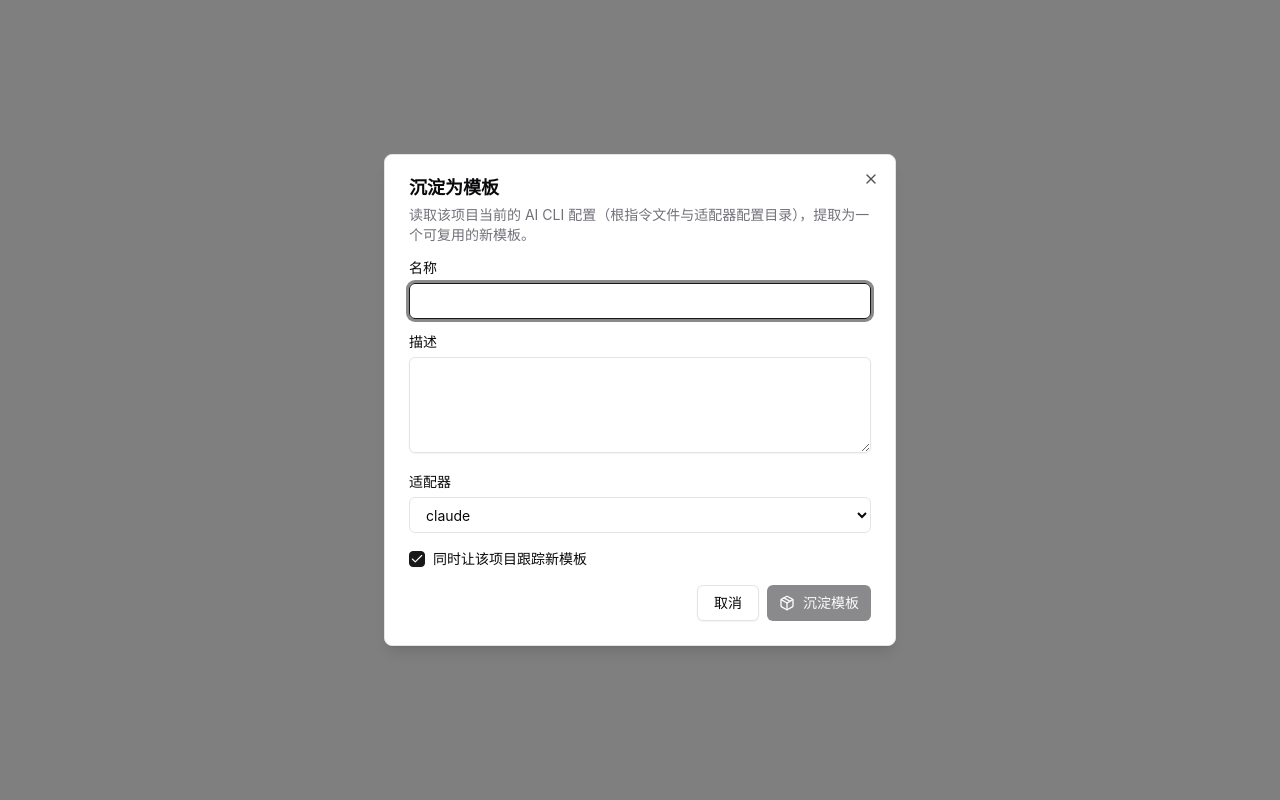
Test: ExtractTemplateDialog › shows the gateway error message when extraction fails
In the field labelled "名称": (640, 301) [409,283,871,319], type "My Template"
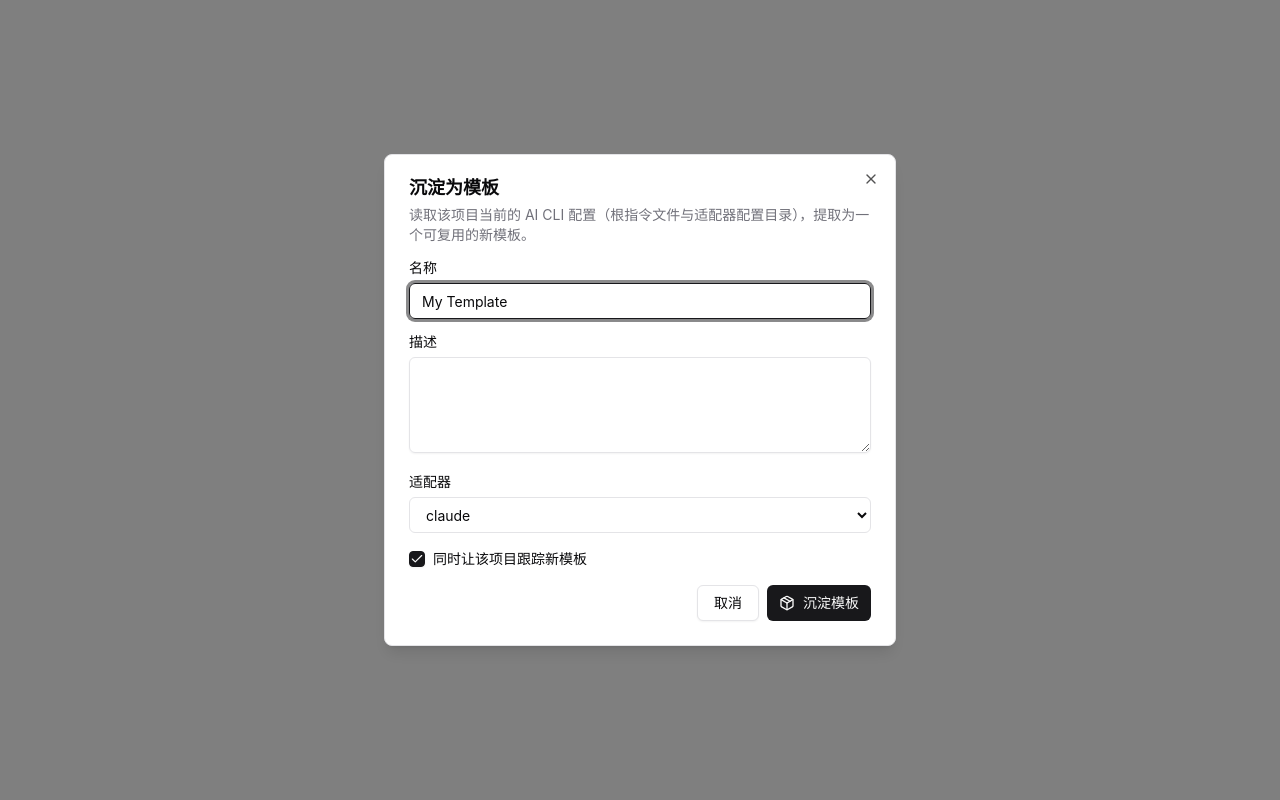
Click the button "沉淀模板": (819, 603) [767,585,871,621]
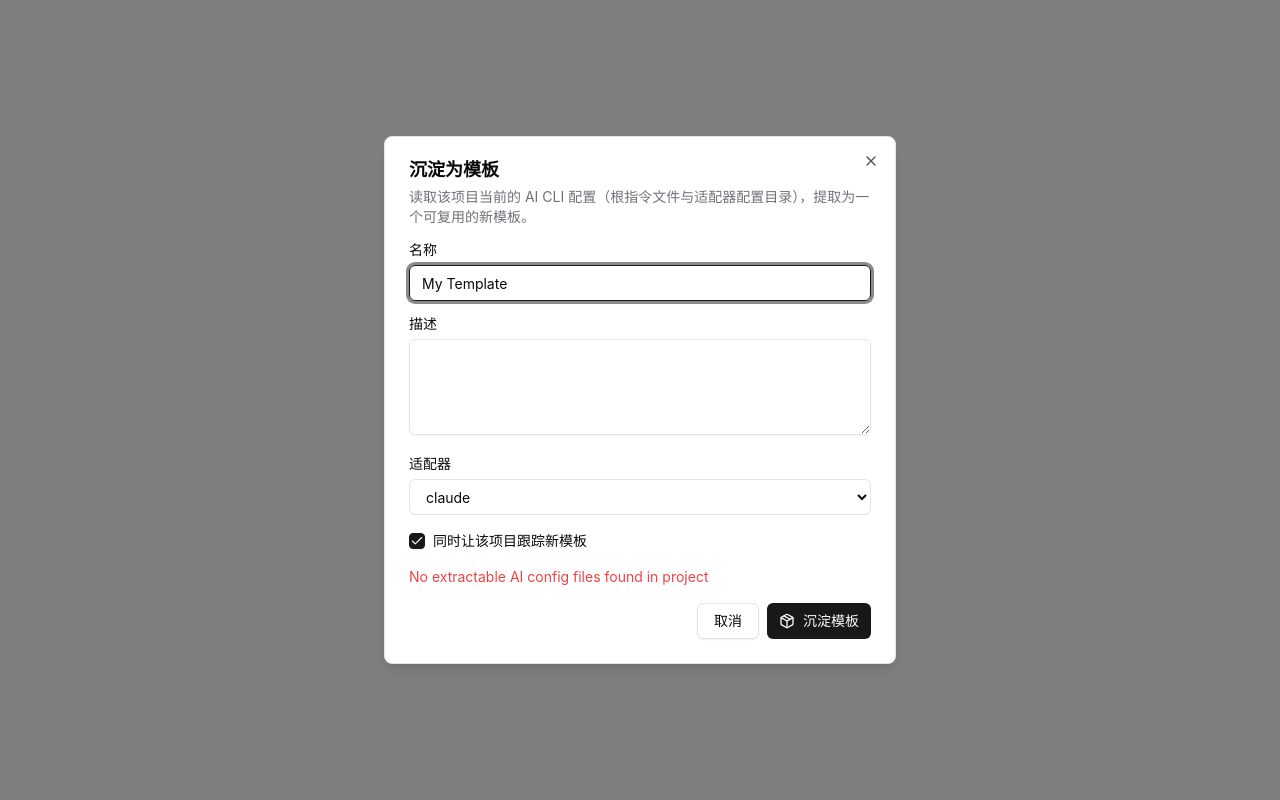
Now the text "No extractable AI config files found in project" is shown, box [409,568,708,585]
